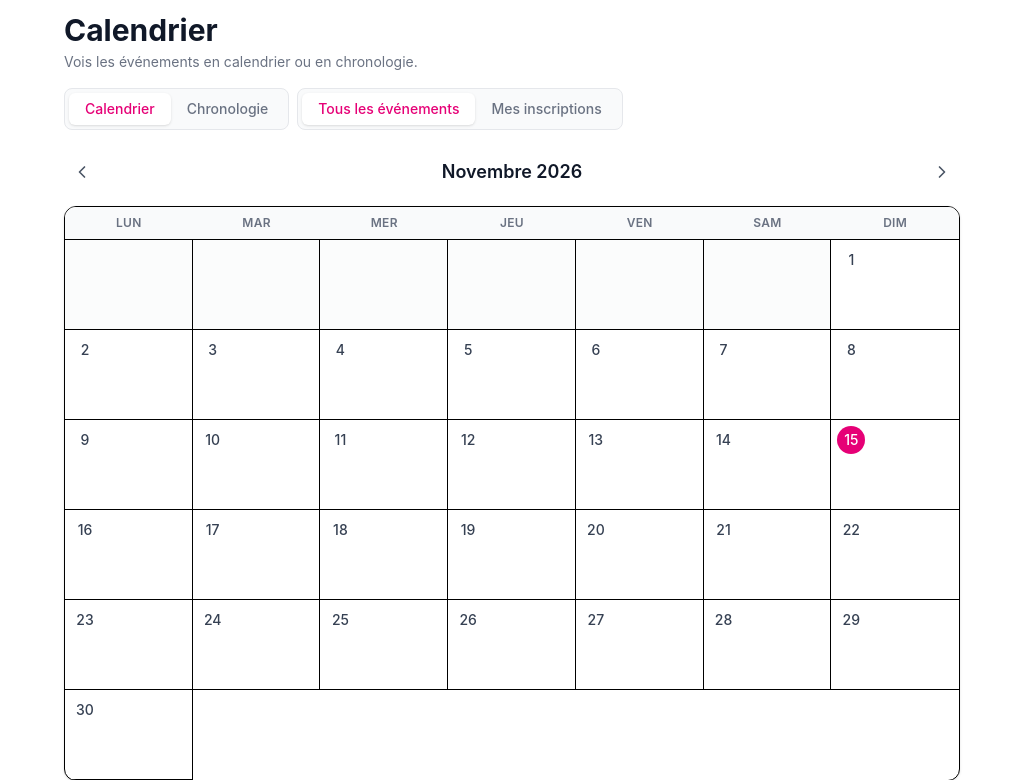
Test: CalendarPage › wraps from December to January of the next year
Expected: the heading "Novembre 2026" is shown, [442,158,582,186]
Click the button named "Mois suivant".
click(942, 172)  # box [924,154,960,190]
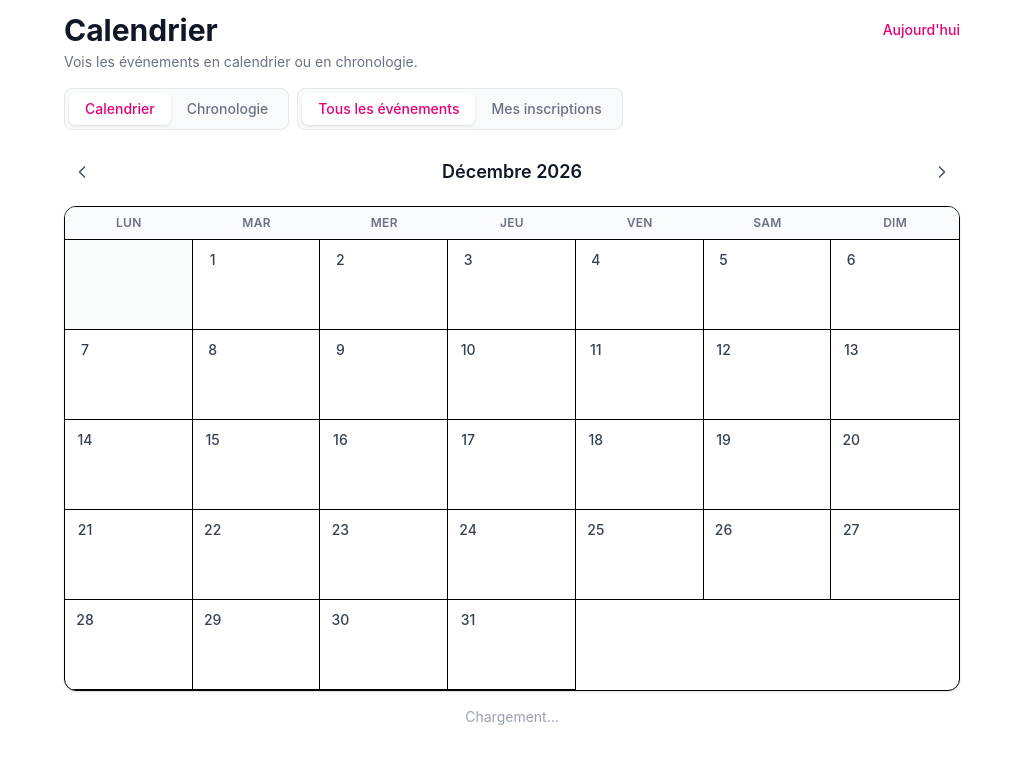
Now the heading "Décembre 2026" is shown, box [442,158,582,186]
Click the button named "Mois suivant".
click(942, 172)  # box [924,154,960,190]
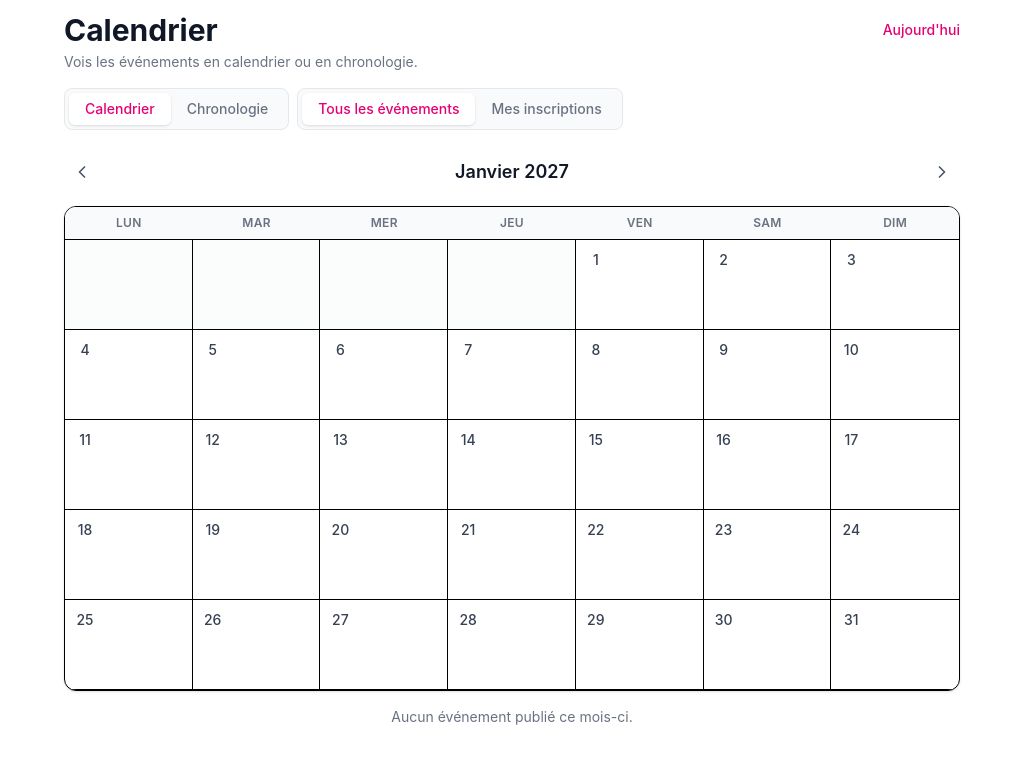
Now the heading "Janvier 2027" is shown, box [455,158,569,186]
